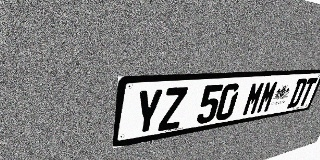0: (214, 83, 241, 121)
5: (196, 84, 224, 125)
D: (286, 78, 308, 109)
M: (241, 81, 266, 117), (255, 80, 280, 114)
T: (297, 78, 318, 107)
Y: (132, 88, 164, 136)
Z: (158, 87, 188, 132)
